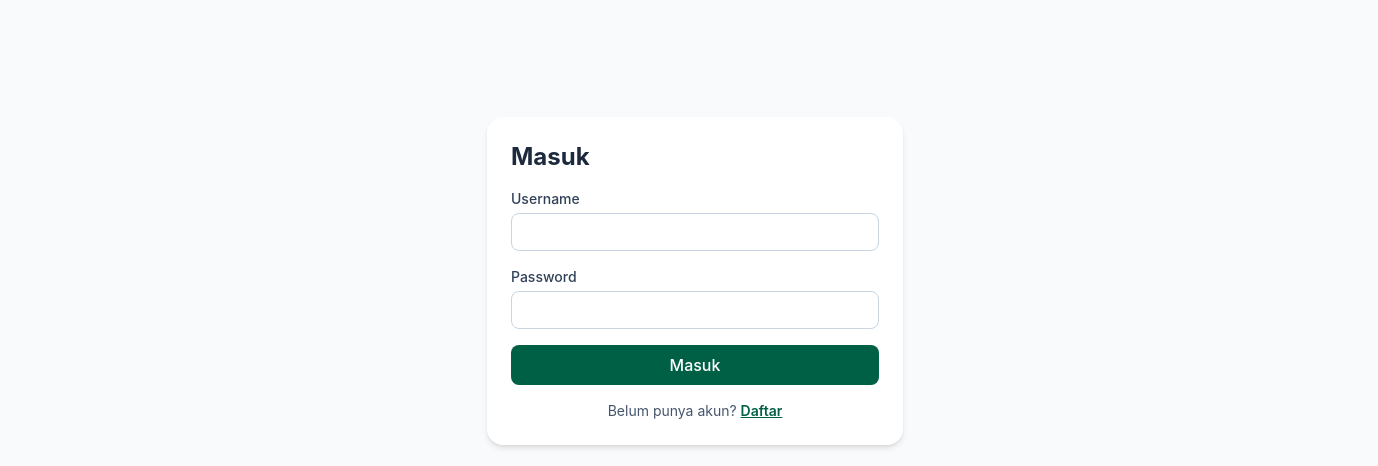
it: LoginPage › login author berhasil -> dashboard author
Type " yobez " into the field with id "login-username" at (695, 232), box [511,213,879,251]
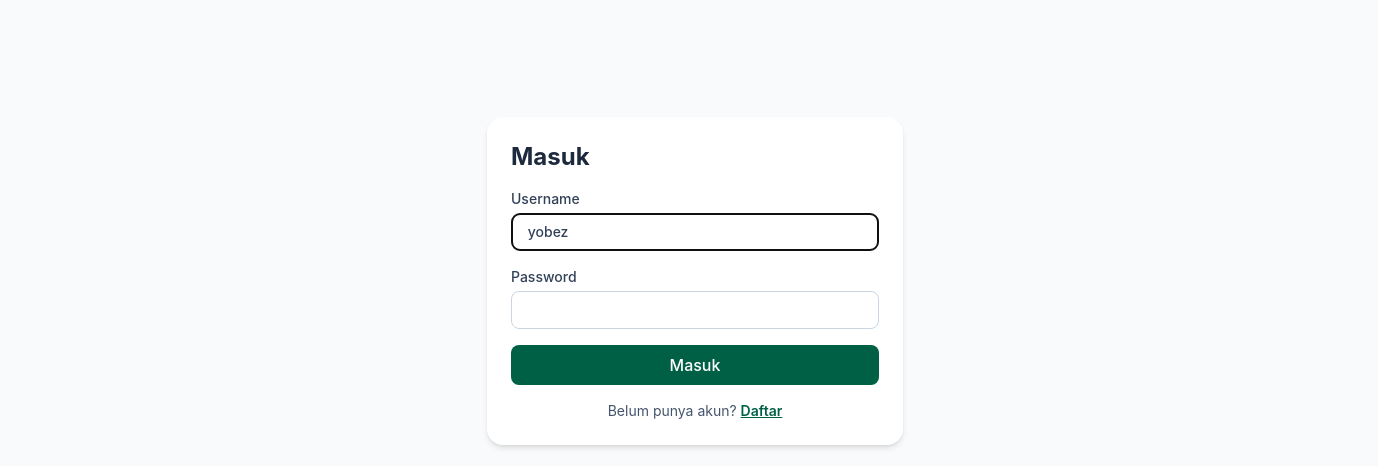
Type "rahasia" into the password field with id "login-password" at (695, 310), box [511,291,879,329]
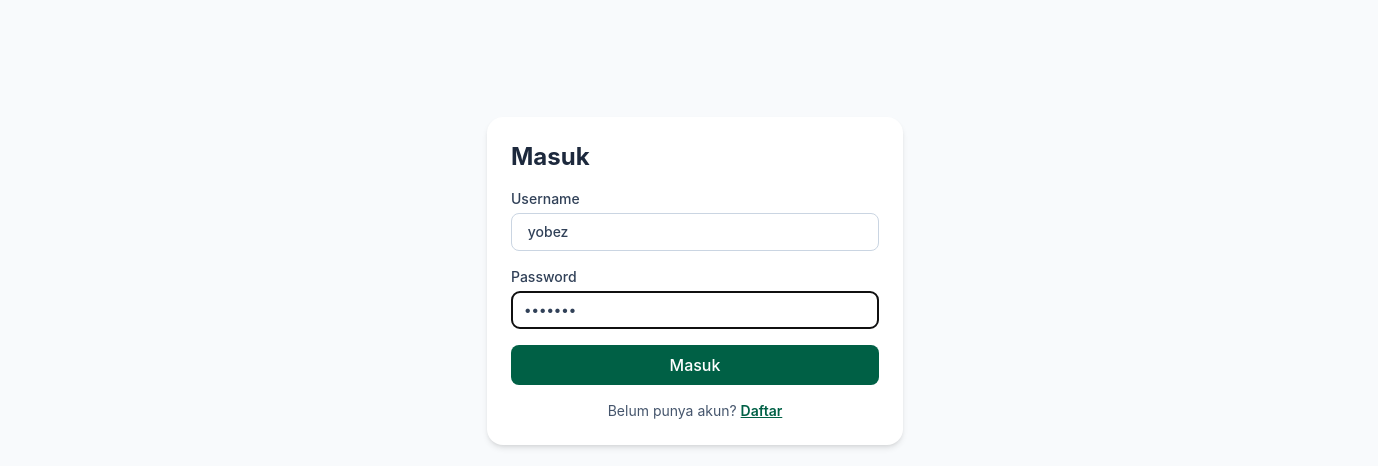
Click the button with id "login-submit" at (695, 365), box [511,345,879,385]
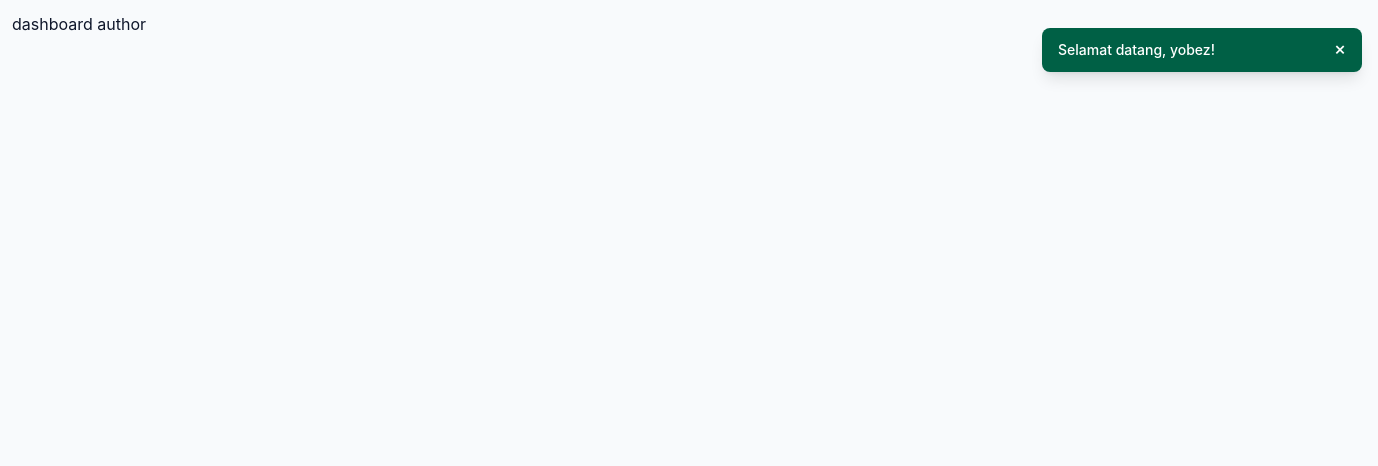
Expected: the text "dashboard author" is shown, [12,14,146,34]
Expected: the message shows "Selamat datang, yobez", [1058,41,1215,58]
